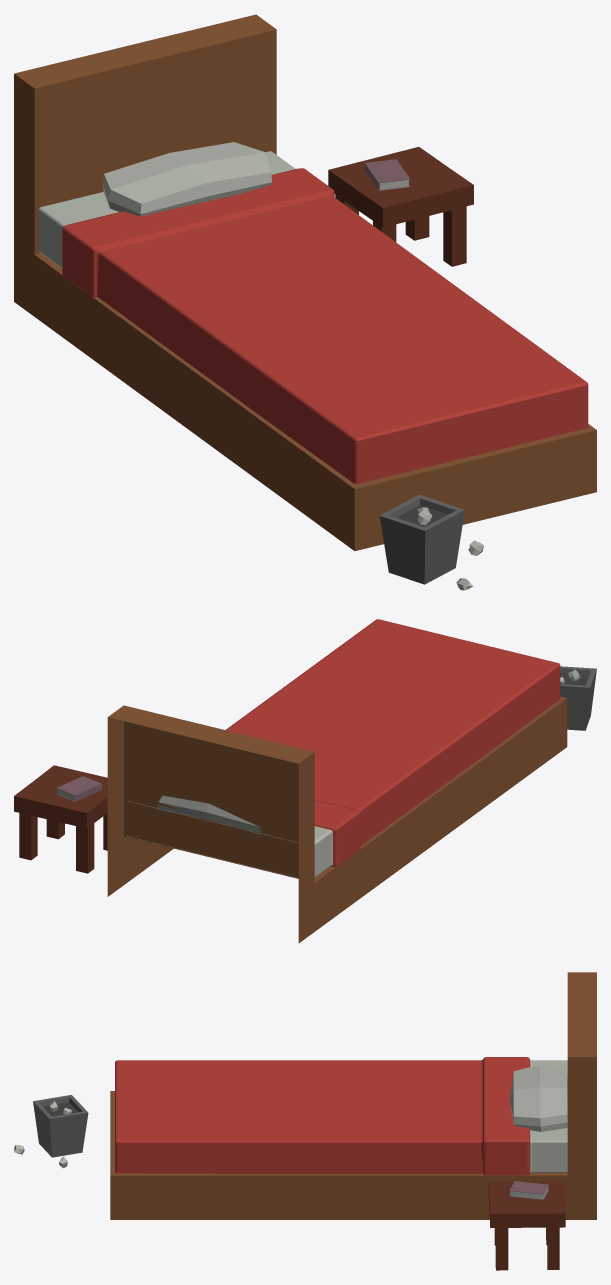
Rendered from Bed.fbx.
3 renders of one model, top to bottom at view 1: azimuth 30°, elevation 25°; view 2: azimuth 150°, elevation 25°; view 3: azimuth 270°, elevation 25°, orthographic. The views are drawn at different scales.
Parts seen in each view (by area): view 1: Bed; view 2: Bed; view 3: Bed.
Part boxes in pixels (x1=…): Bed: x1=14, y1=14, x2=596, y2=590; Bed: x1=14, y1=619, x2=596, y2=943; Bed: x1=14, y1=972, x2=596, y2=1270.
Size of the model in its own units: 77.68 by 44.53 by 142.
